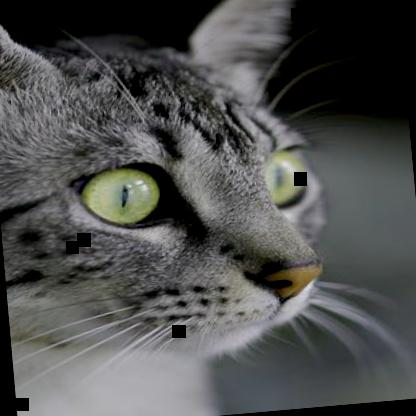cat: (0, 0, 353, 415)
